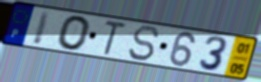3: (198, 35, 230, 73)
6: (168, 31, 197, 68)
I: (30, 9, 53, 47)
O: (56, 14, 93, 52)
S: (127, 24, 162, 63)
T: (100, 19, 129, 57)
